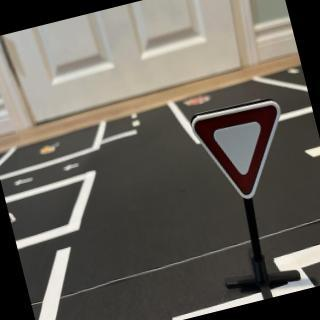road_oneway: (59, 158, 84, 176), (11, 174, 38, 189)
sign_yield: (190, 96, 301, 210)
